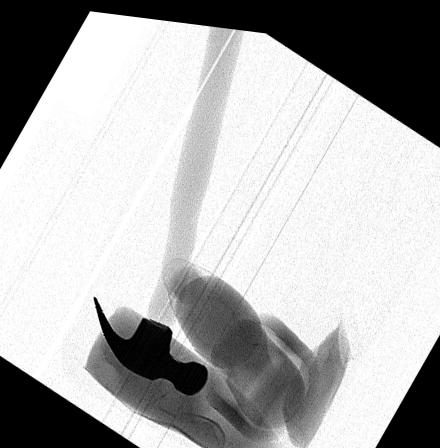Hammer: (93, 21, 244, 392)
